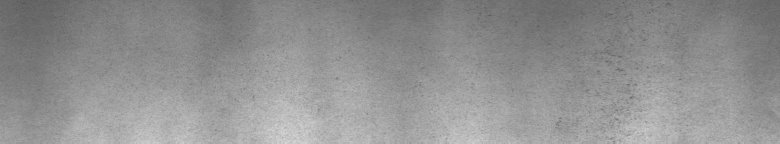ib: (555, 14, 640, 128)
